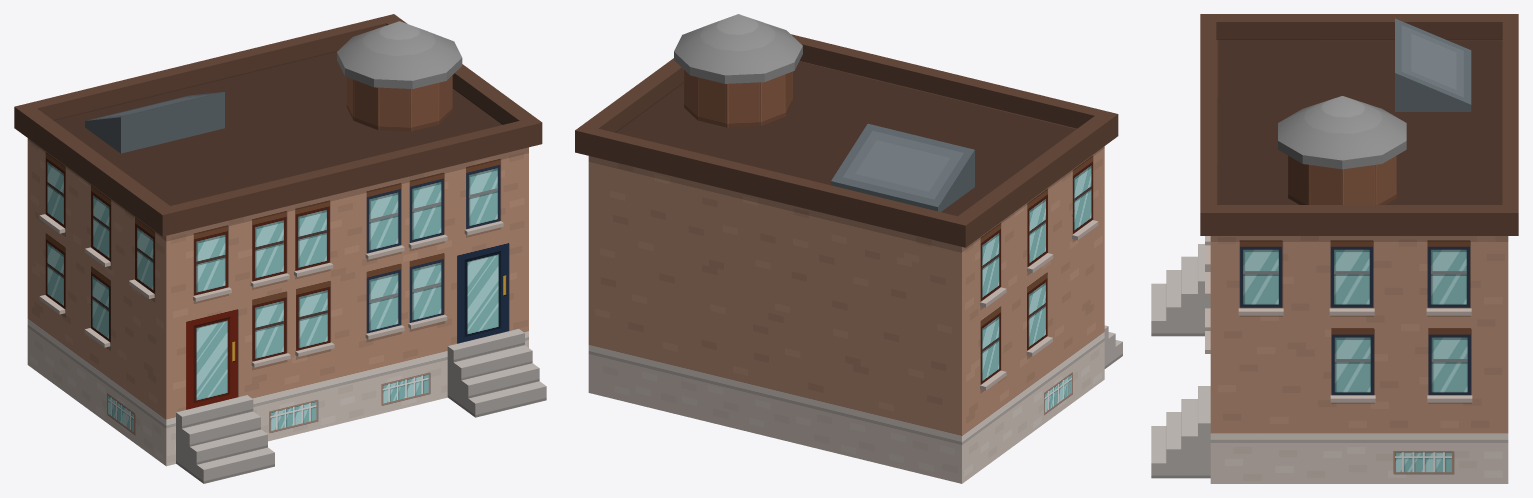
File: city_building_01.fbx
3 renders of one model, left to right at view 1: azimuth 30°, elevation 25°; view 2: azimuth 150°, elevation 25°; view 3: azimuth 270°, elevation 25°, orthographic. The views are drawn at different scales.
Parts seen in each view (by area): view 1: city:polySurface335; view 2: city:polySurface335; view 3: city:polySurface335.
Boxes of the visible parts, left/top/right/bottom form: city:polySurface335: left=14, top=14, right=546, bottom=483; city:polySurface335: left=575, top=14, right=1122, bottom=483; city:polySurface335: left=1151, top=14, right=1518, bottom=483.
Size of the model in its own units: 10.49 by 8.67 by 8.19.
